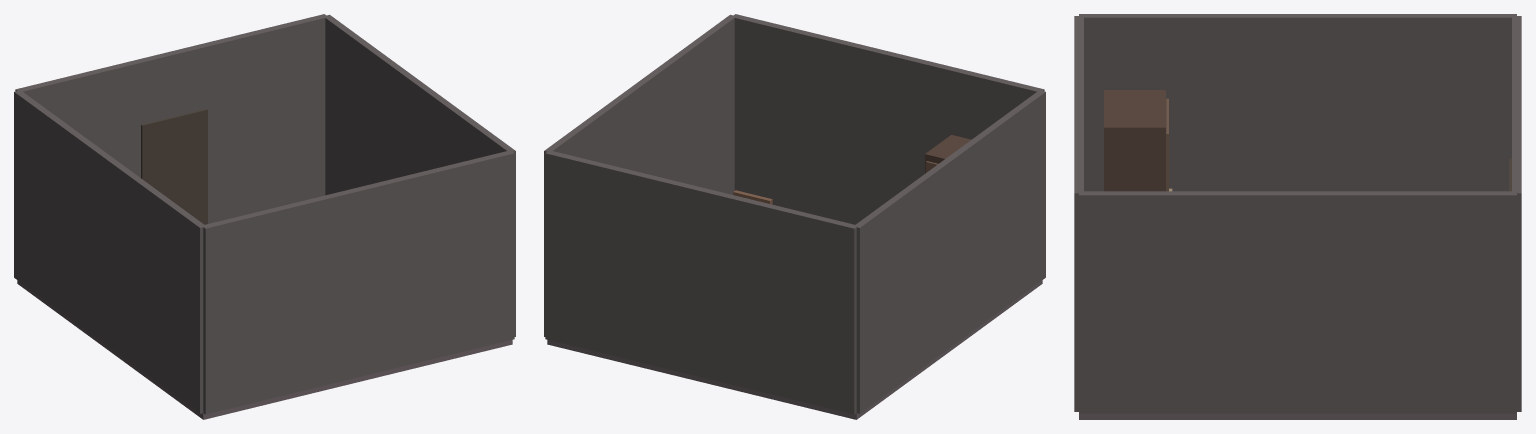
File: cuartoPrestado.obj
3 renders of one model, left to right at view 1: azimuth 30°, elevation 25°; view 2: azimuth 150°, elevation 25°; view 3: azimuth 270°, elevation 25°, orthographic. The views are drawn at different scales.
Visible parts, largest first — view 1: cuartoPrestado_c2_12, cuartoPrestado_c2_10, cuartoPrestado_c2_13, cuartoPrestado_c2_11, cuartoPrestado_c2_14, cuartoPrestado_c2_9; view 2: cuartoPrestado_c2_13, cuartoPrestado_c2_12, cuartoPrestado_c2_10, cuartoPrestado_c2_11, cuartoPrestado_c2_9, cuartoPrestado_c2_97; view 3: cuartoPrestado_c2_11, cuartoPrestado_c2_10, cuartoPrestado_c2_97, cuartoPrestado_c2_9, cuartoPrestado_c2_12, cuartoPrestado_c2_13.
Part boxes in pixels (<box>): cuartoPrestado_c2_12: <box>203,150,514,414</box>; cuartoPrestado_c2_10: <box>14,90,206,413</box>; cuartoPrestado_c2_13: <box>15,14,326,223</box>; cuartoPrestado_c2_11: <box>323,14,515,336</box>; cuartoPrestado_c2_14: <box>141,108,207,224</box>; cuartoPrestado_c2_9: <box>17,280,512,419</box>; cuartoPrestado_c2_13: <box>545,150,857,414</box>; cuartoPrestado_c2_12: <box>733,14,1044,224</box>; cuartoPrestado_c2_10: <box>853,90,1045,413</box>; cuartoPrestado_c2_11: <box>544,14,736,336</box>; cuartoPrestado_c2_9: <box>547,280,1042,419</box>; cuartoPrestado_c2_97: <box>925,135,971,173</box>; cuartoPrestado_c2_11: <box>1079,191,1516,413</box>; cuartoPrestado_c2_10: <box>1079,14,1516,191</box>; cuartoPrestado_c2_97: <box>1104,90,1165,191</box>; cuartoPrestado_c2_9: <box>1079,413,1516,419</box>; cuartoPrestado_c2_12: <box>1074,16,1083,411</box>; cuartoPrestado_c2_13: <box>1512,16,1521,411</box>.
Size of the model in its own units: 9.6 by 5.6 by 10.02.
